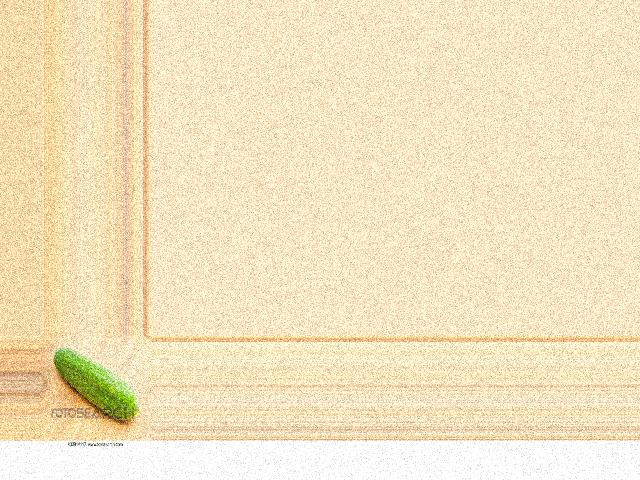cucumber: (53, 347, 140, 421)
